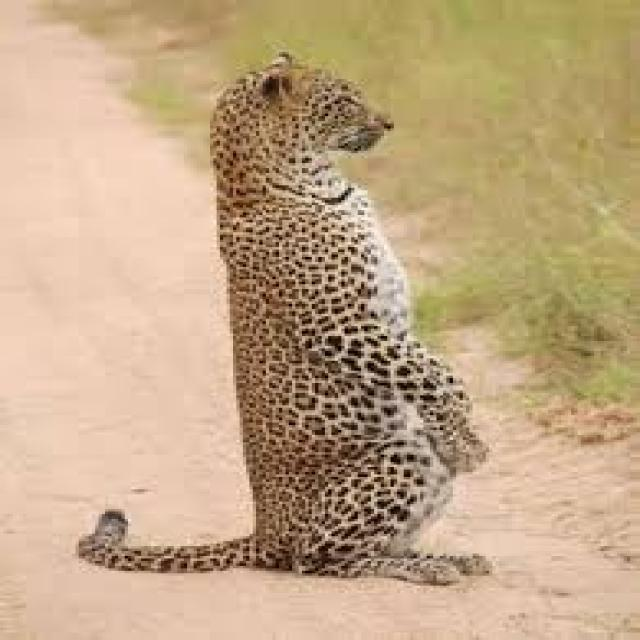Jaguar: (75, 49, 499, 590)
